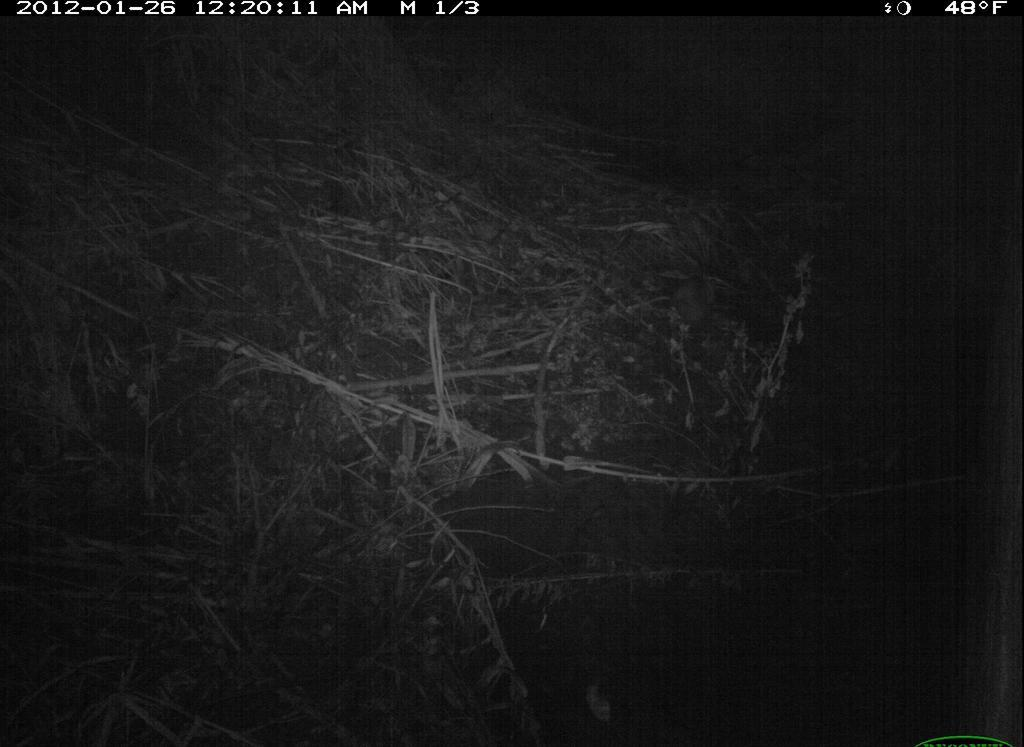opossum: (655, 258, 721, 376)
